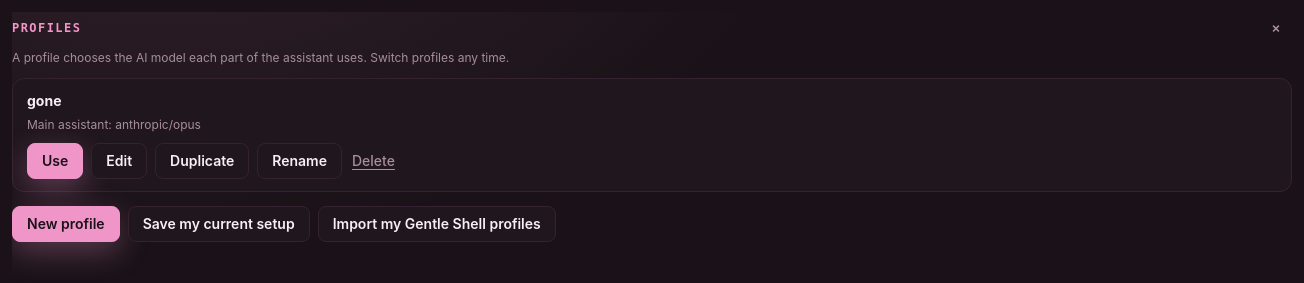
Test case: ProfilesPanel › keeps a model that is not available so saving does not lose it
Click the button "Edit".
click(119, 161)  # box [91,143,147,179]
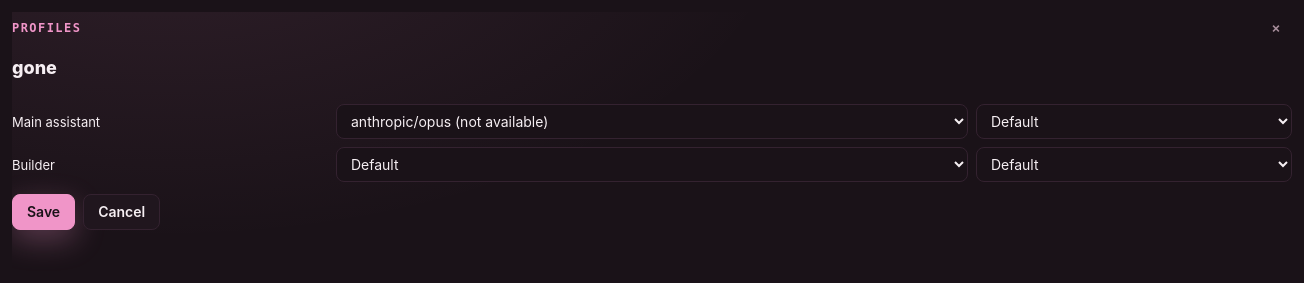
Result: the dropdown named "Main assistant model" shows "anthropic/opus (not available)" at [336,104,968,139]
